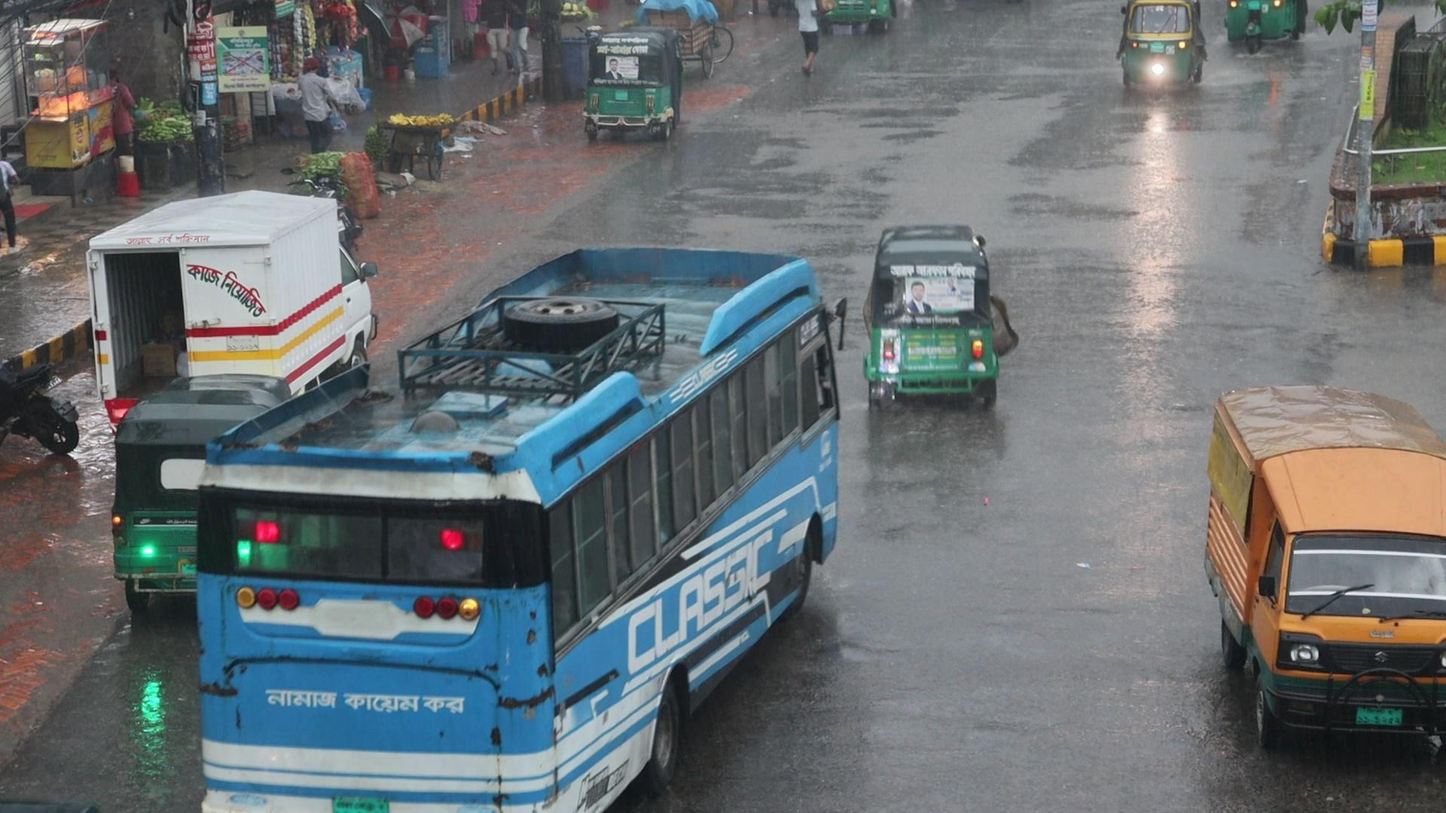Bus: (200, 245, 856, 798)
Truck: (1205, 368, 1446, 772)
